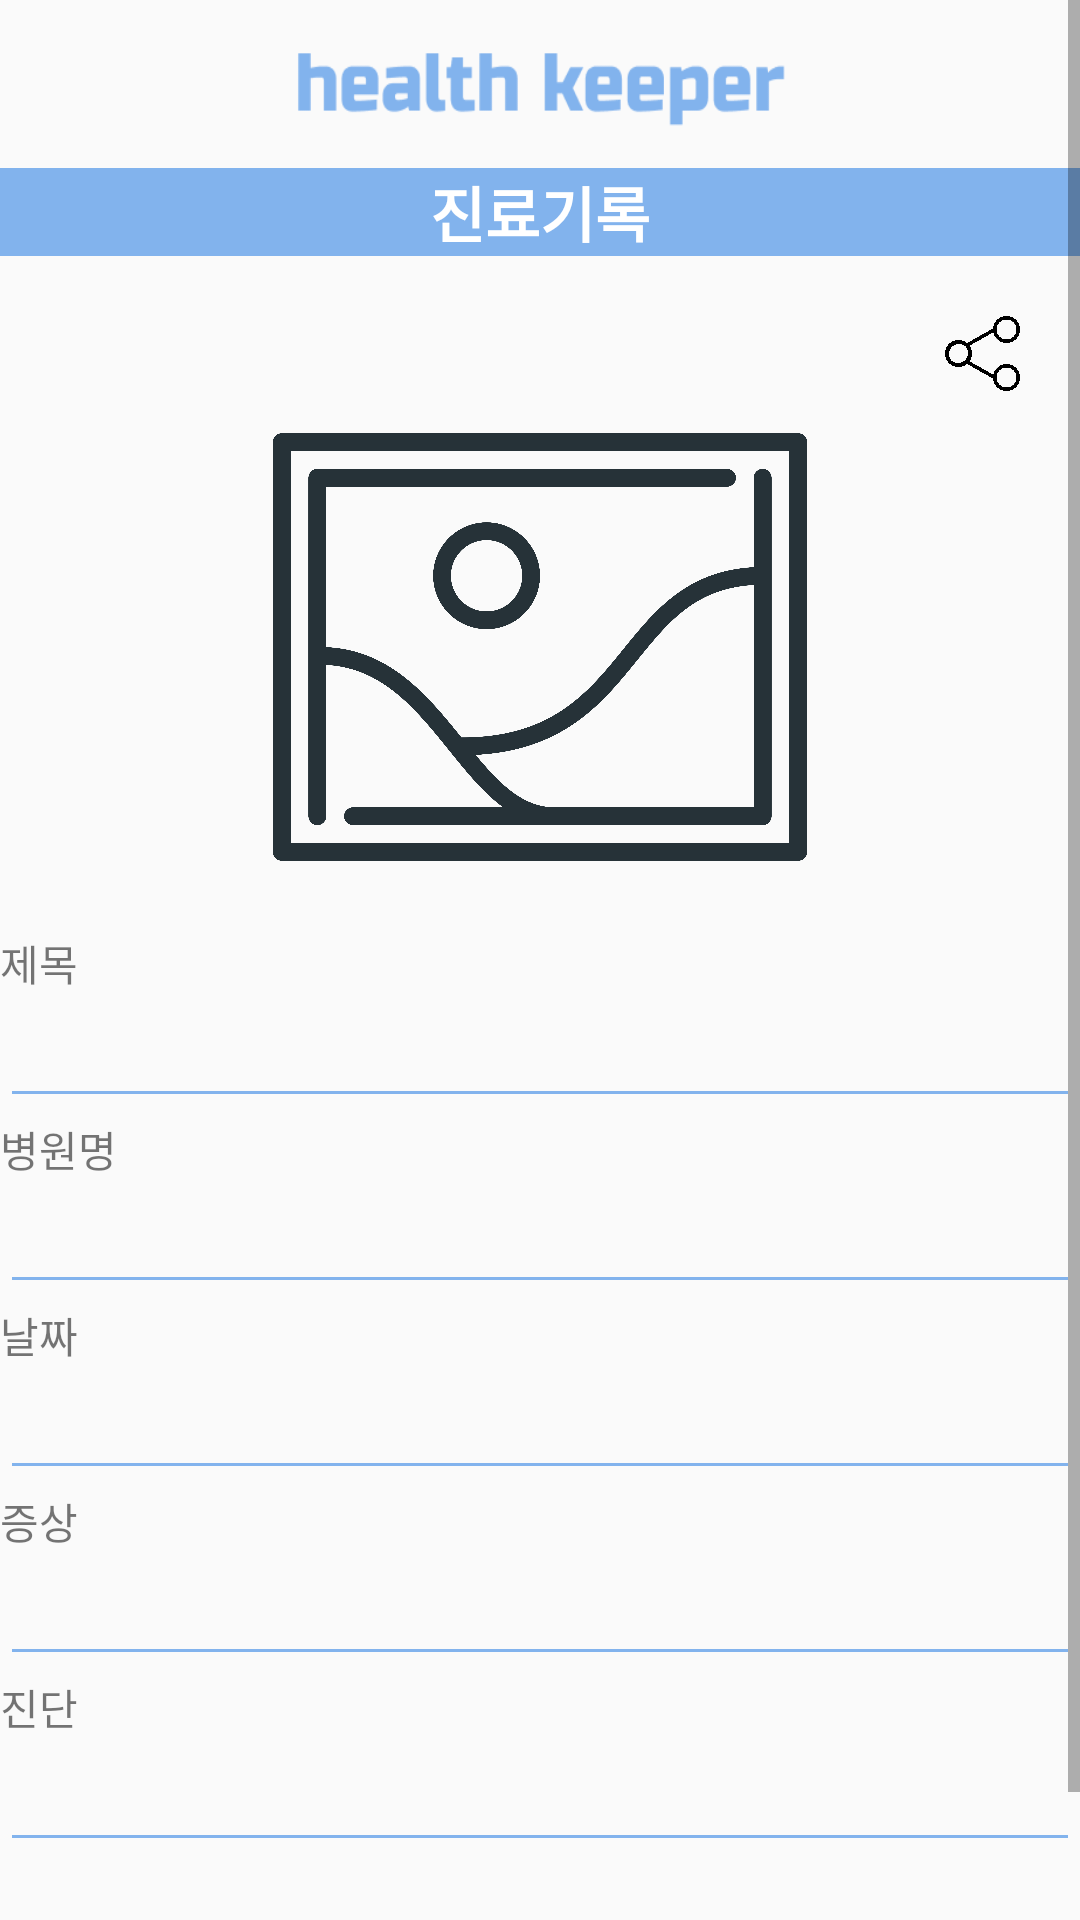

Screen size 1080px x 1920px. Icon name, then its box in pixels as detection(x1, y1, x2, y2):
share: detection(945, 316, 1020, 391)
